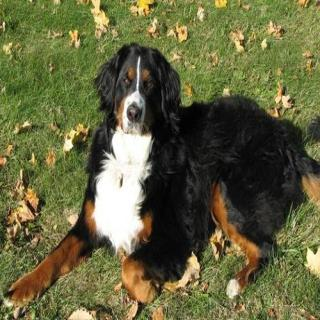dog: (90, 35, 187, 144)
nose: (125, 100, 143, 122)
